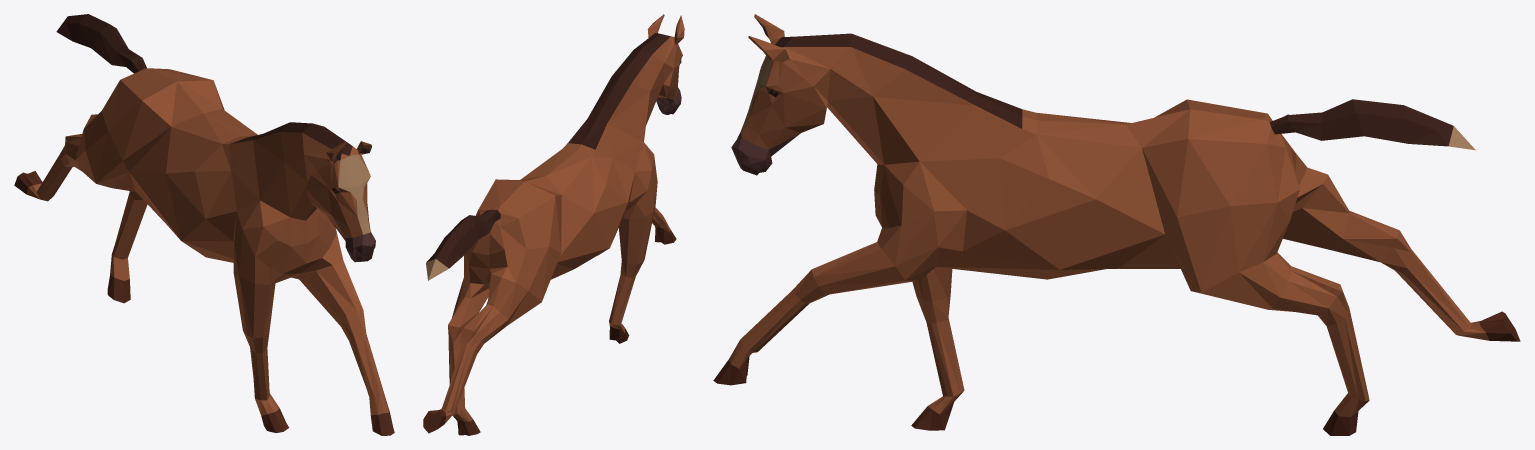
File: Horse.gltf
3 views of the same model, side by side, from view 1: azimuth 30°, elevation 25°; view 2: azimuth 150°, elevation 25°; view 3: azimuth 270°, elevation 25° (orthographic). The views are drawn at different scales.
Parts seen in each view (by area): view 1: Node #0; view 2: Node #0; view 3: Node #0.
Boxes of the visible parts, x1,y1,x2,y2 form: Node #0: (14,14,394,435); Node #0: (423,14,684,435); Node #0: (713,14,1520,435).
Bounding box in the file's own units: 61.1 × 182 × 322.
